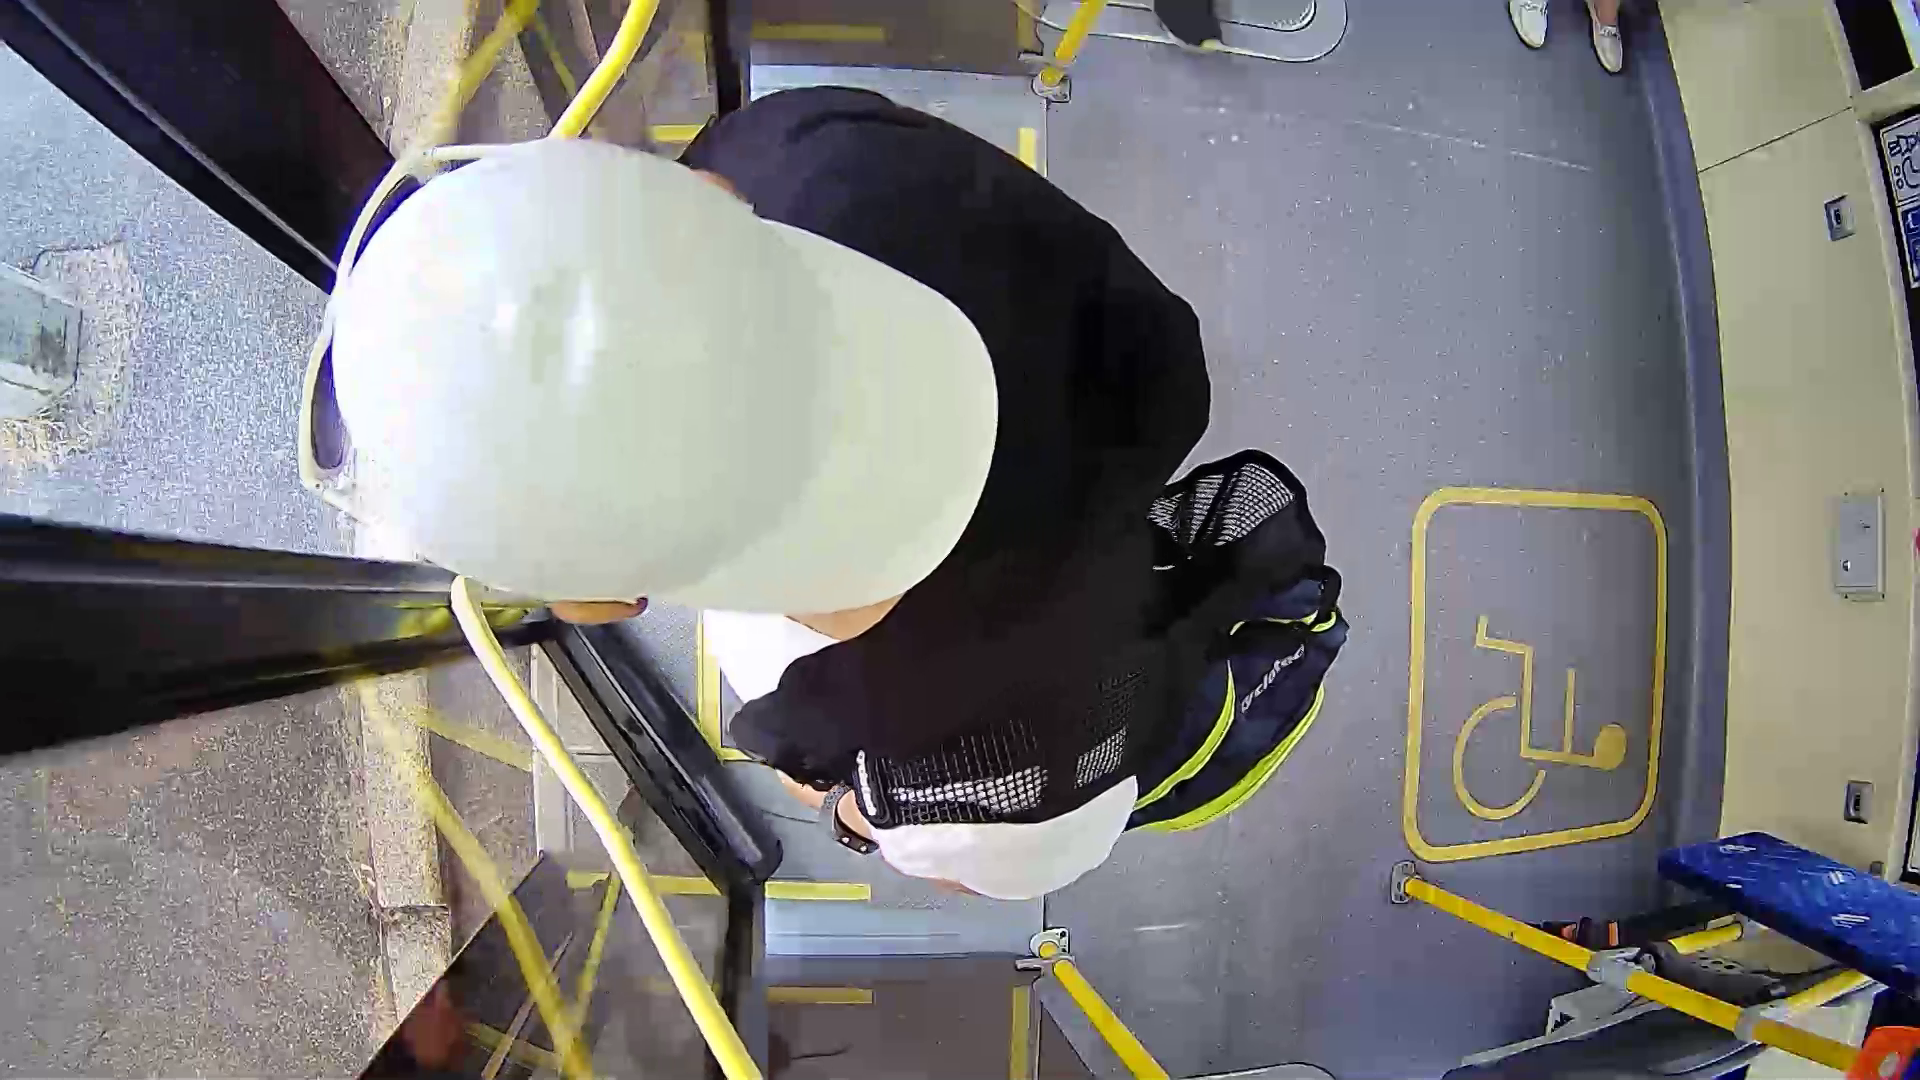person: (234, 113, 1442, 869)
